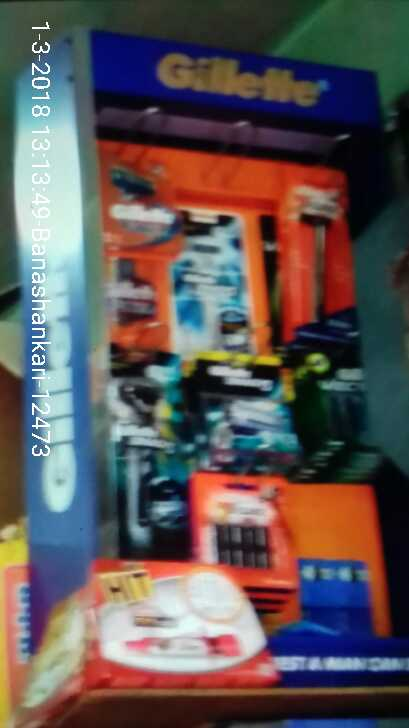gillette: (287, 168, 371, 414), (102, 346, 196, 558), (193, 353, 288, 458)
